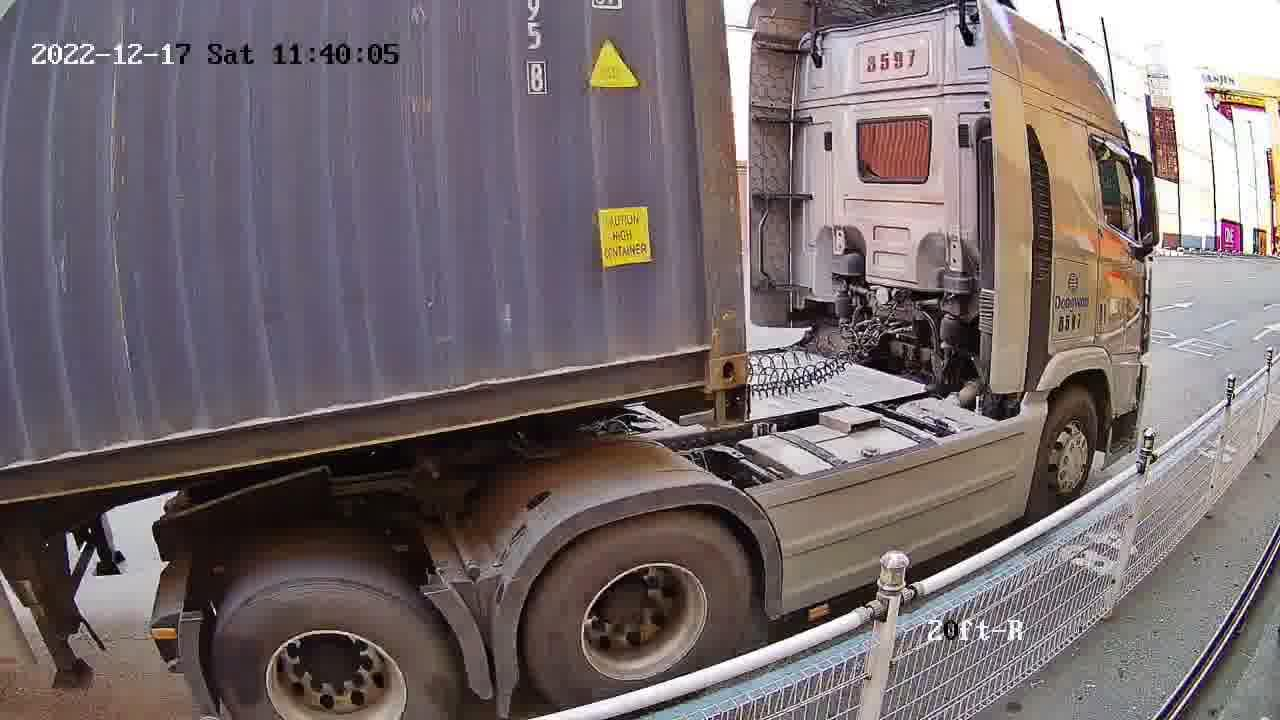Cone: (705, 388, 752, 428)
Hole_R: (666, 312, 749, 396)
Tire: (526, 513, 754, 707), (210, 580, 459, 719)
